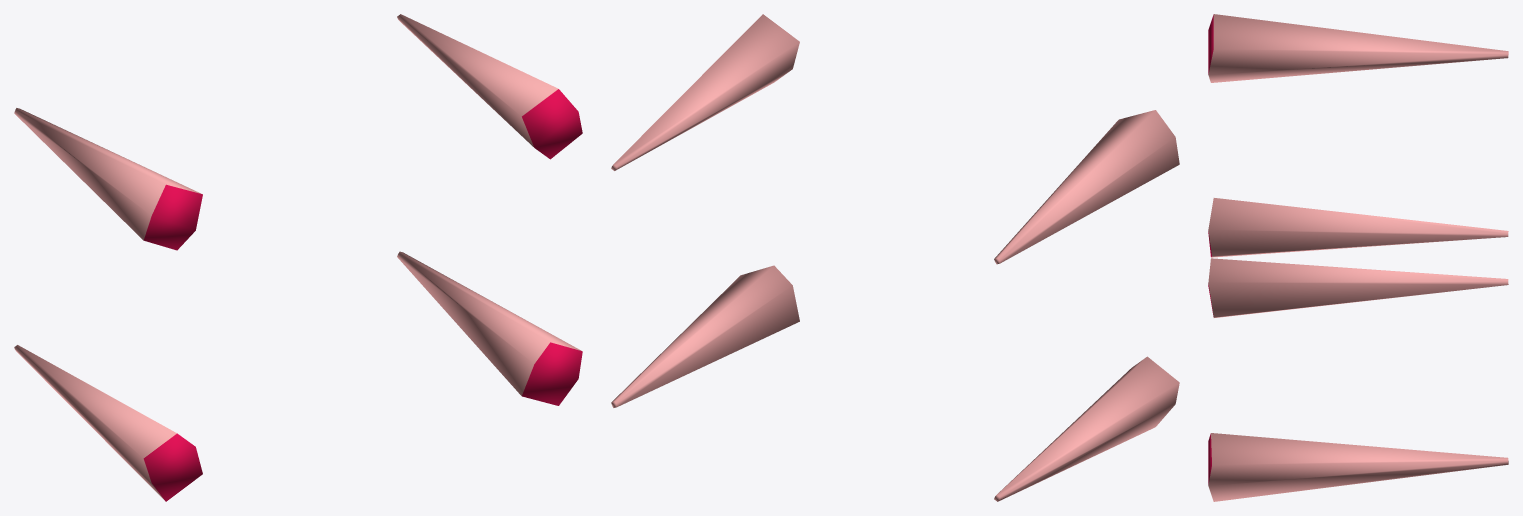
The model's file is ShipExhaust01001RS.fbx.
3 views of the same model, side by side, from view 1: azimuth 30°, elevation 25°; view 2: azimuth 150°, elevation 25°; view 3: azimuth 270°, elevation 25° (orthographic). The views are drawn at different scales.
Visible parts, largest first — view 1: ShipExhaust; view 2: ShipExhaust; view 3: ShipExhaust.
Boxes of the visible parts, bbox=[...] form: ShipExhaust: bbox=[14, 14, 582, 501]; ShipExhaust: bbox=[611, 14, 1179, 501]; ShipExhaust: bbox=[1208, 14, 1508, 501].
Bounding box in the file's own units: 327 × 226 × 202.
